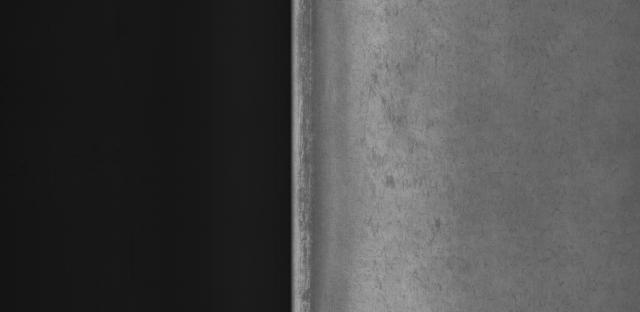silk_spot: (360, 32, 473, 291)
